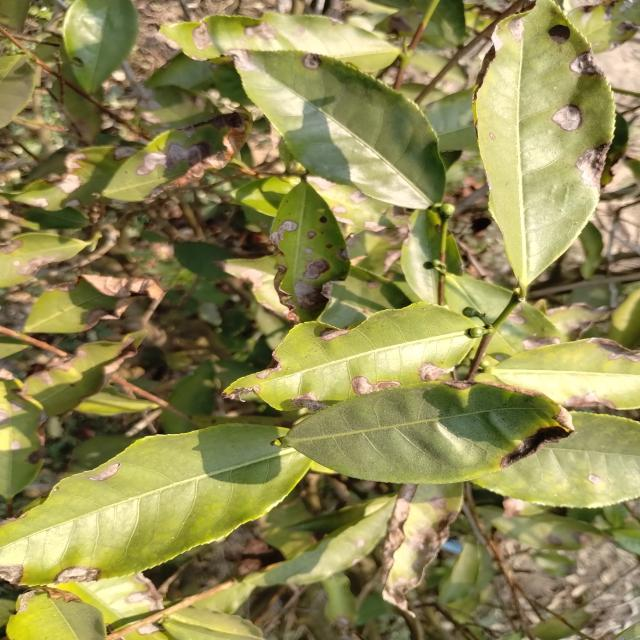Leaf: (0, 424, 310, 587), (474, 0, 614, 287), (232, 49, 445, 208), (272, 382, 572, 484), (224, 302, 472, 411), (475, 412, 640, 507), (160, 12, 401, 72), (244, 497, 395, 586), (103, 112, 251, 202), (271, 180, 350, 322), (490, 338, 640, 409), (381, 483, 462, 611), (25, 332, 142, 416), (24, 275, 164, 333), (7, 146, 123, 211), (62, 0, 138, 93), (57, 573, 164, 630), (0, 372, 45, 498), (479, 506, 603, 550), (321, 266, 411, 326), (6, 587, 106, 640), (485, 302, 563, 366), (0, 233, 90, 286), (223, 255, 287, 315), (568, 0, 640, 53), (401, 209, 441, 303), (425, 89, 478, 152), (163, 607, 263, 640), (167, 361, 216, 427), (139, 85, 215, 126), (445, 275, 512, 321), (0, 55, 35, 128), (439, 543, 480, 603), (76, 387, 159, 415), (174, 242, 232, 279), (322, 572, 357, 626), (120, 623, 167, 640), (161, 410, 193, 433), (446, 233, 462, 275)
